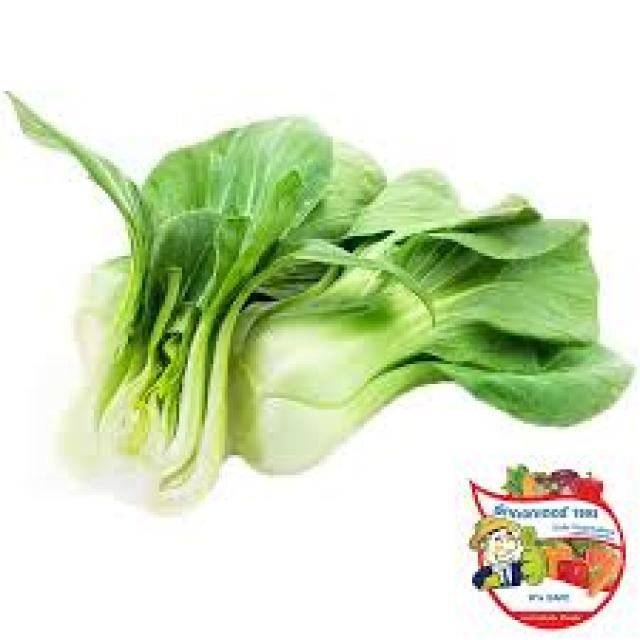bokchoy: (29, 112, 628, 475)
